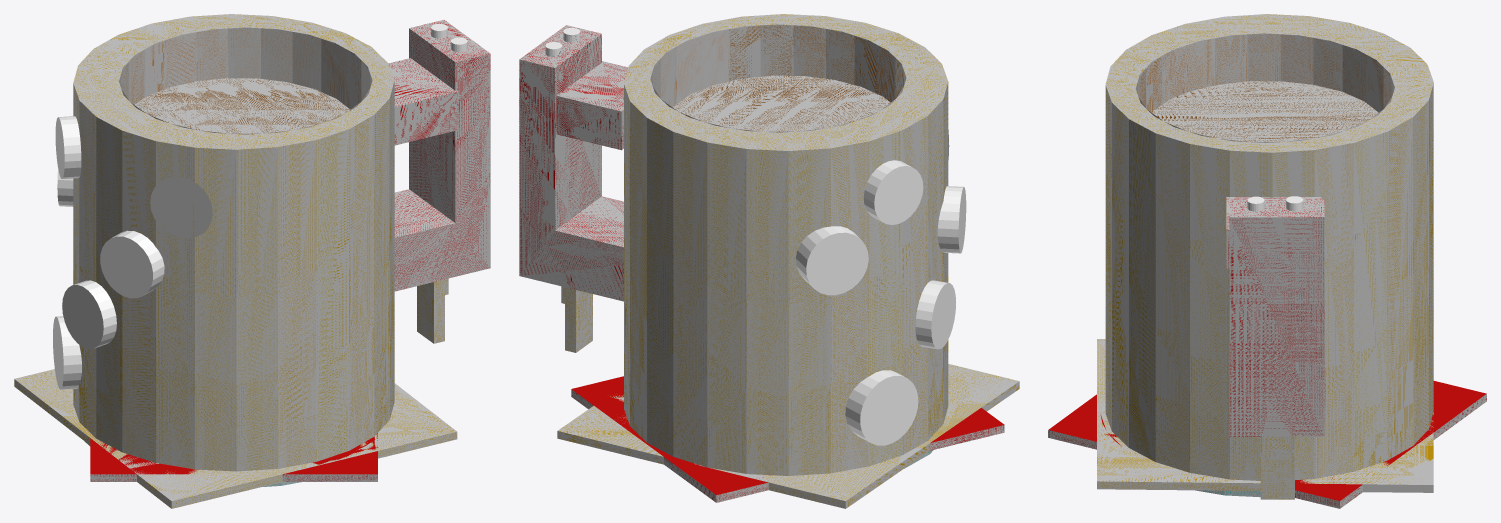
3 renders of one model, left to right at view 1: azimuth 30°, elevation 25°; view 2: azimuth 150°, elevation 25°; view 3: azimuth 270°, elevation 25°, orthographic. The views are drawn at different scales.
Visible parts, largest first — view 1: mesh1_mesh1-geometry, mesh7_mesh7-geometry, mesh6_mesh6-geometry, mesh2_mesh2-geometry, mesh5_mesh5-geometry, mesh3_mesh3-geometry, mesh8_mesh8-geometry; view 2: mesh1_mesh1-geometry, mesh7_mesh7-geometry, mesh6_mesh6-geometry, mesh3_mesh3-geometry, mesh4_mesh4-geometry, mesh8_mesh8-geometry, mesh2_mesh2-geometry; view 3: mesh1_mesh1-geometry, mesh7_mesh7-geometry.
Boxes of the visible parts, <box> form: mesh1_mesh1-geometry: <box>14,14,457,508</box>; mesh7_mesh7-geometry: <box>394,19,490,343</box>; mesh6_mesh6-geometry: <box>388,58,458,145</box>; mesh2_mesh2-geometry: <box>100,230,164,298</box>; mesh5_mesh5-geometry: <box>150,177,212,238</box>; mesh3_mesh3-geometry: <box>53,316,81,389</box>; mesh8_mesh8-geometry: <box>55,116,81,178</box>; mesh1_mesh1-geometry: <box>557,14,1019,508</box>; mesh7_mesh7-geometry: <box>519,25,623,352</box>; mesh6_mesh6-geometry: <box>556,61,628,150</box>; mesh3_mesh3-geometry: <box>845,370,918,445</box>; mesh4_mesh4-geometry: <box>795,226,868,295</box>; mesh8_mesh8-geometry: <box>863,159,923,224</box>; mesh2_mesh2-geometry: <box>937,186,966,253</box>; mesh1_mesh1-geometry: <box>1048,14,1486,508</box>; mesh7_mesh7-geometry: <box>1229,196,1324,499</box>.
Size of the model in its own units: 0.6469 by 0.4994 by 0.5763.
